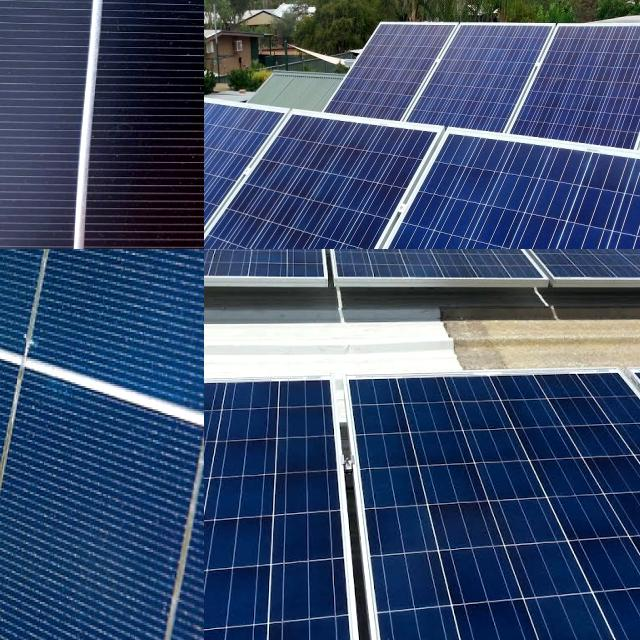crack: (312, 369, 640, 640), (0, 249, 204, 640), (204, 368, 435, 640), (250, 98, 640, 249), (204, 100, 475, 249), (204, 57, 351, 249), (386, 0, 553, 143), (306, 249, 551, 338), (540, 17, 640, 205), (452, 249, 640, 340), (348, 10, 456, 146), (204, 249, 341, 329), (403, 249, 575, 295), (502, 249, 640, 294), (299, 249, 452, 286), (204, 249, 320, 290)
